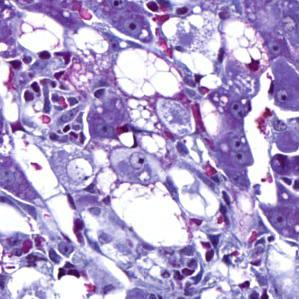ballooning: (109, 180, 189, 251), (107, 44, 188, 99), (218, 15, 271, 78)
